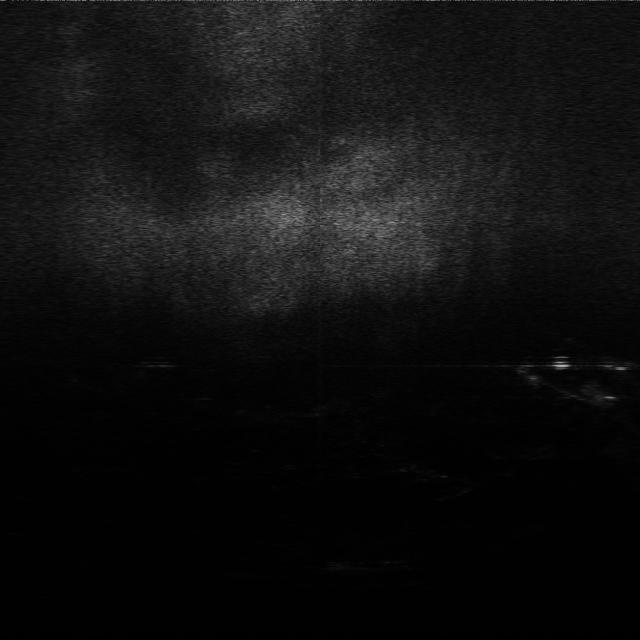rov: (550, 356, 572, 370)
